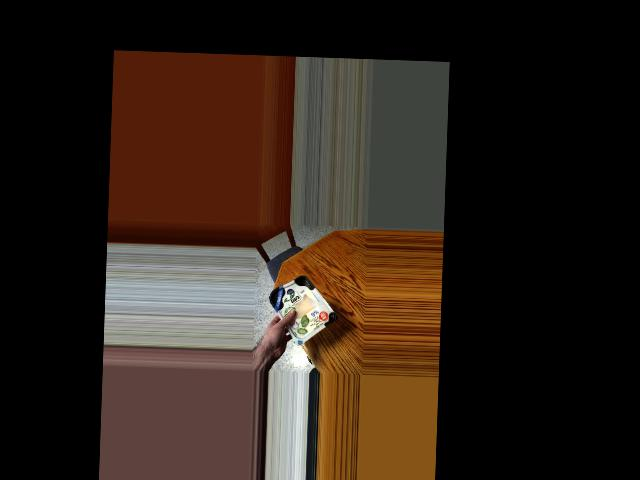cheese: (266, 274, 333, 335)
